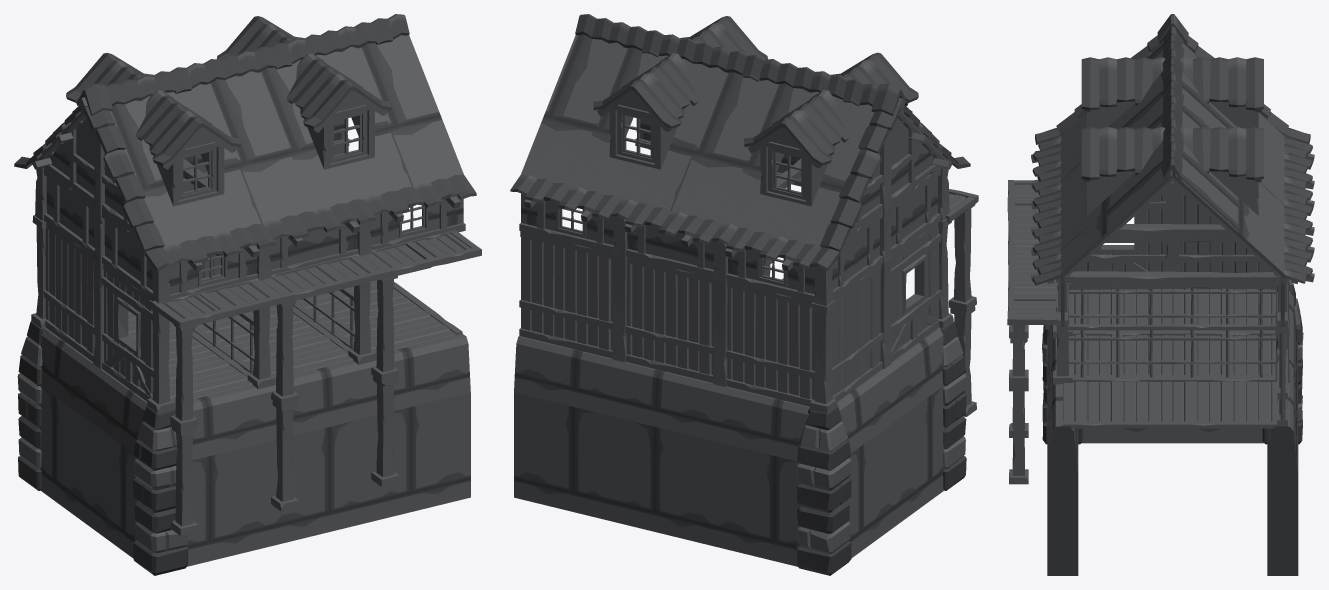
File: kn_bld_barracks.gltf
3 views of the same model, side by side, from view 1: azimuth 30°, elevation 25°; view 2: azimuth 150°, elevation 25°; view 3: azimuth 270°, elevation 25° (orthographic). The views are drawn at different scales.
Visible parts, largest first — view 1: kn_bld_barracks; view 2: kn_bld_barracks; view 3: kn_bld_barracks.
Part boxes in pixels (x1=…): kn_bld_barracks: x1=14, y1=14, x2=481, y2=575; kn_bld_barracks: x1=510, y1=14, x2=978, y2=575; kn_bld_barracks: x1=1007, y1=14, x2=1314, y2=575.
Size of the model in its own units: 8.03 by 10.49 by 6.98.
1 material, 1 textured.
